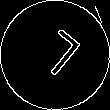L_SW: (27, 26, 83, 84)
